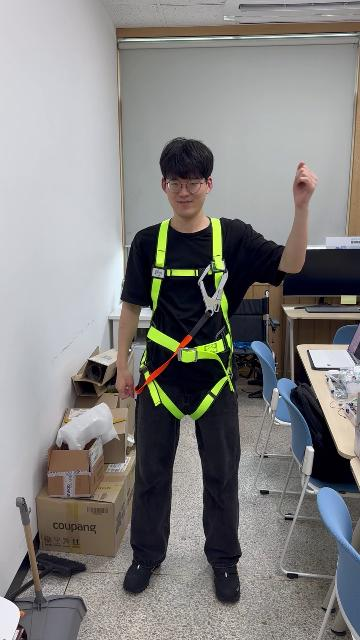helmet_not_worn: (158, 135, 218, 189)
shoe_worn: (123, 560, 163, 594), (213, 567, 241, 602)
vest_worn: (137, 222, 237, 415)
